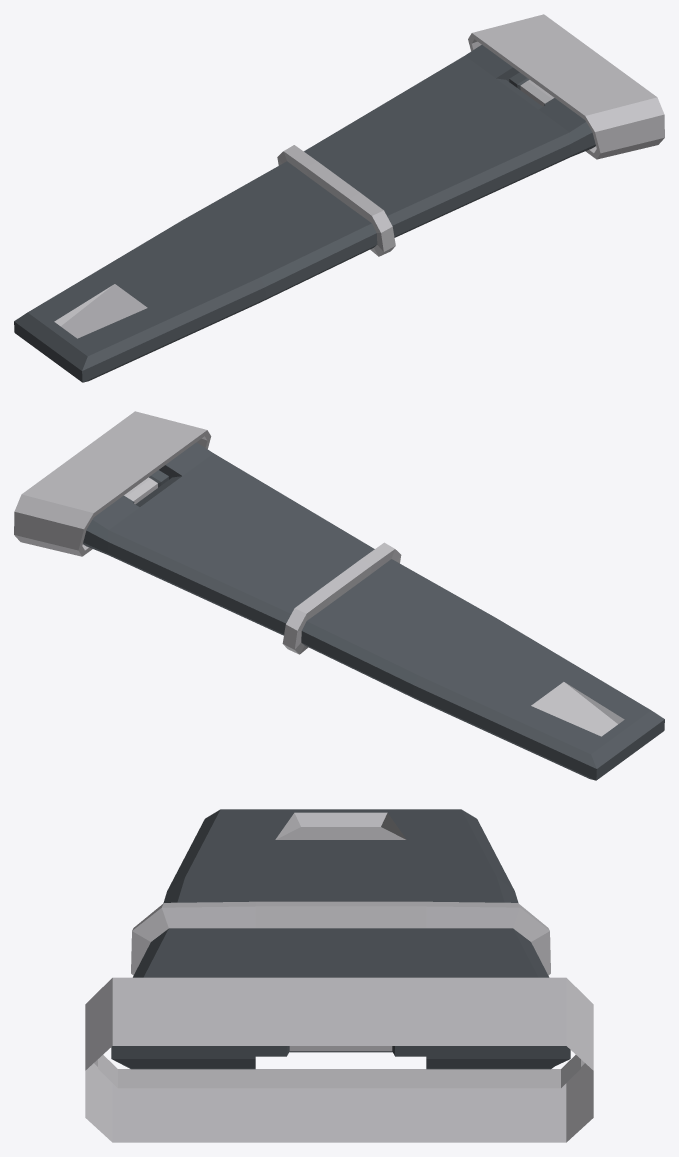
The model's file is Fighter_04_Small_Wing_Right.fbx.
The picture shows the model from 3 angles, top to bottom: view 1: azimuth 30°, elevation 25°; view 2: azimuth 150°, elevation 25°; view 3: azimuth 270°, elevation 25°; orthographic projection. The views are drawn at different scales.
Parts seen in each view (by area): view 1: Fighter_04_Small_Wing_Right; view 2: Fighter_04_Small_Wing_Right; view 3: Fighter_04_Small_Wing_Right.
Boxes of the visible parts, x1,y1,x2,y2 form: Fighter_04_Small_Wing_Right: (14,14,664,382); Fighter_04_Small_Wing_Right: (14,411,664,780); Fighter_04_Small_Wing_Right: (85,809,593,1142).
Size of the model in its own units: 488 by 145 by 194.
1 material, 1 textured.
